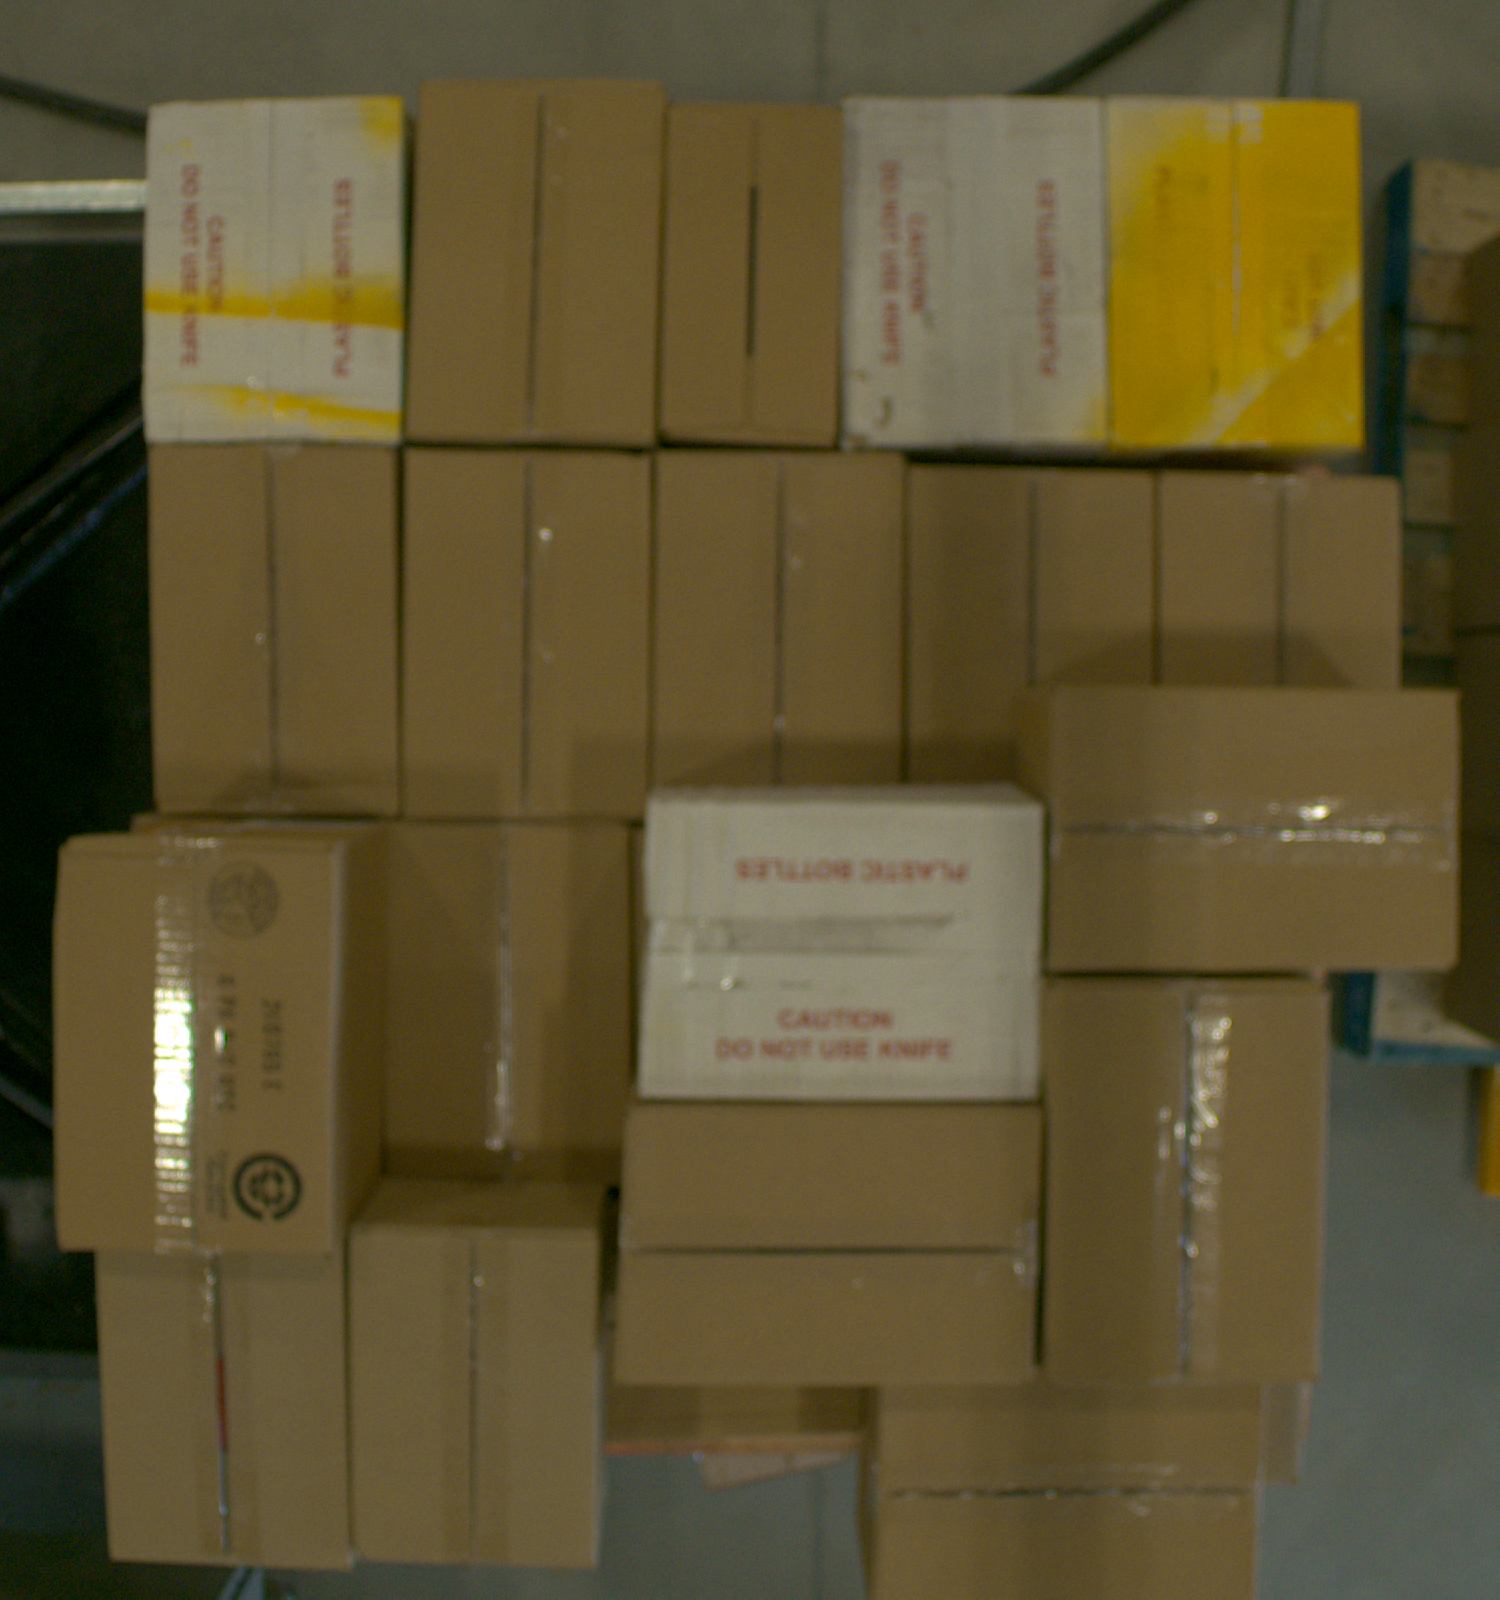box top: (1047, 685, 1463, 977), (54, 844, 347, 1249), (641, 806, 1043, 1098), (1046, 978, 1328, 1387), (622, 1109, 1038, 1381), (410, 82, 664, 444), (144, 96, 405, 445), (149, 451, 400, 813), (1107, 99, 1363, 450), (379, 825, 629, 1183), (847, 99, 1102, 445), (407, 453, 647, 820), (873, 1381, 1267, 1600), (654, 453, 904, 789), (352, 1233, 598, 1562), (96, 1253, 350, 1570), (909, 469, 1152, 781), (660, 104, 846, 445), (1162, 475, 1400, 687)
